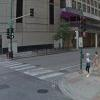Crosswalk: (3, 56, 62, 84)
